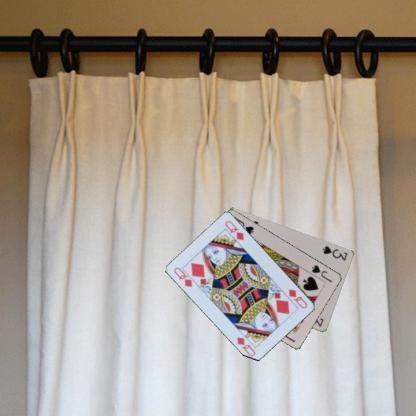3s: (320, 244, 349, 262)
Js: (309, 262, 334, 284)
Qd: (172, 264, 198, 288), (286, 286, 309, 310)
